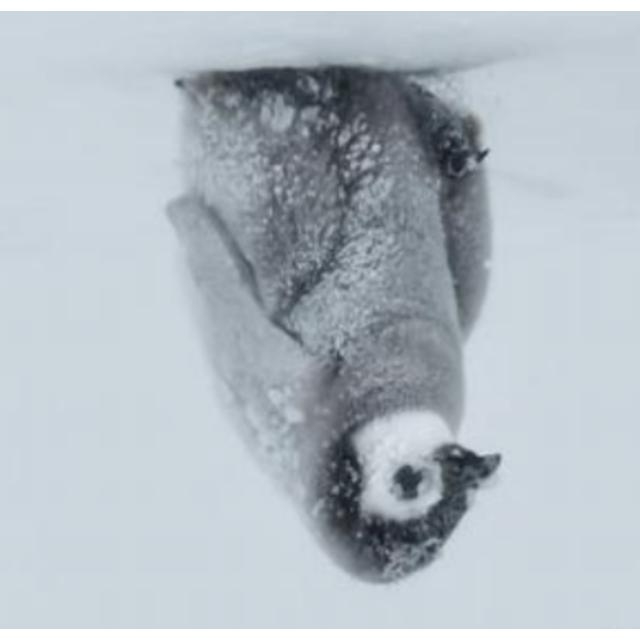penguin: (166, 65, 506, 587)
